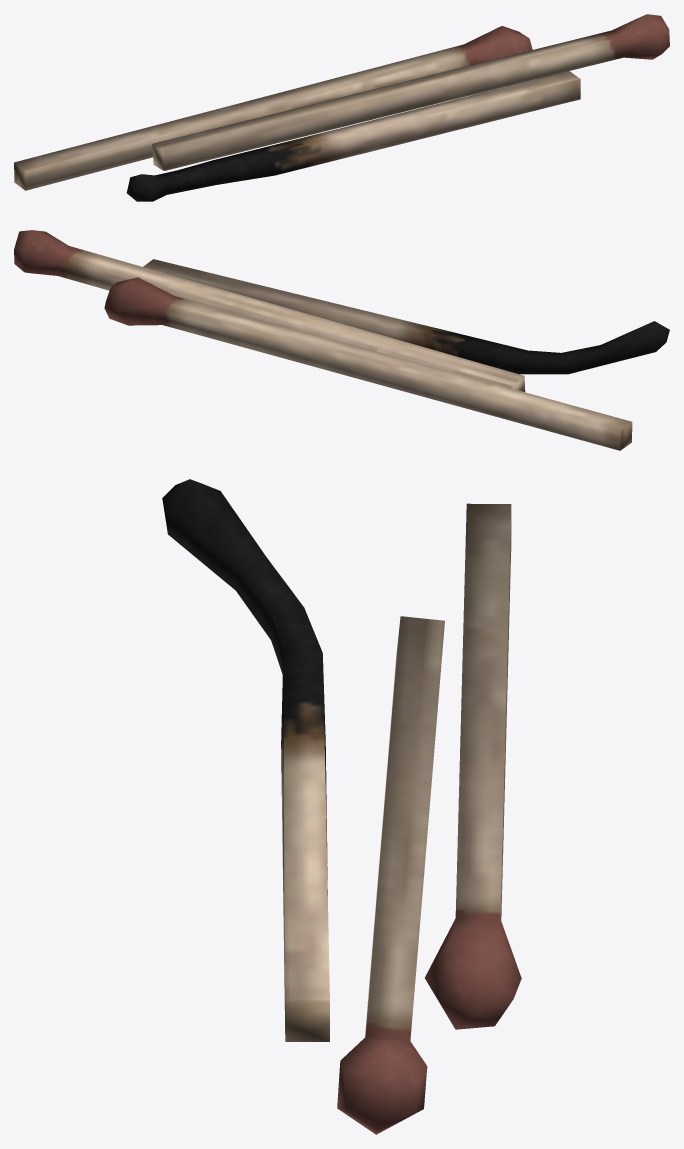
The model's file is Match.fbx.
The picture shows the model from 3 angles, top to bottom: view 1: azimuth 30°, elevation 25°; view 2: azimuth 150°, elevation 25°; view 3: azimuth 270°, elevation 25°; orthographic projection. The views are drawn at different scales.
Visible parts, largest first — view 1: Spichki_Low.177, Spichki_Low.182, Spichki_Low.174; view 2: Spichki_Low.174, Spichki_Low.177, Spichki_Low.182; view 3: Spichki_Low.182, Spichki_Low.174, Spichki_Low.177.
Boxes of the visible parts, x1,y1,x2,y2 form: Spichki_Low.177: [152, 14, 669, 170]; Spichki_Low.182: [126, 71, 580, 201]; Spichki_Low.174: [14, 26, 532, 190]; Spichki_Low.174: [104, 277, 632, 450]; Spichki_Low.177: [14, 230, 525, 391]; Spichki_Low.182: [143, 259, 669, 374]; Spichki_Low.182: [162, 479, 329, 1041]; Spichki_Low.174: [425, 503, 521, 1029]; Spichki_Low.177: [337, 616, 444, 1134].
Size of the model in its own units: 52.83 by 4.59 by 13.3.
Materials: 1 (1 with a texture image).
